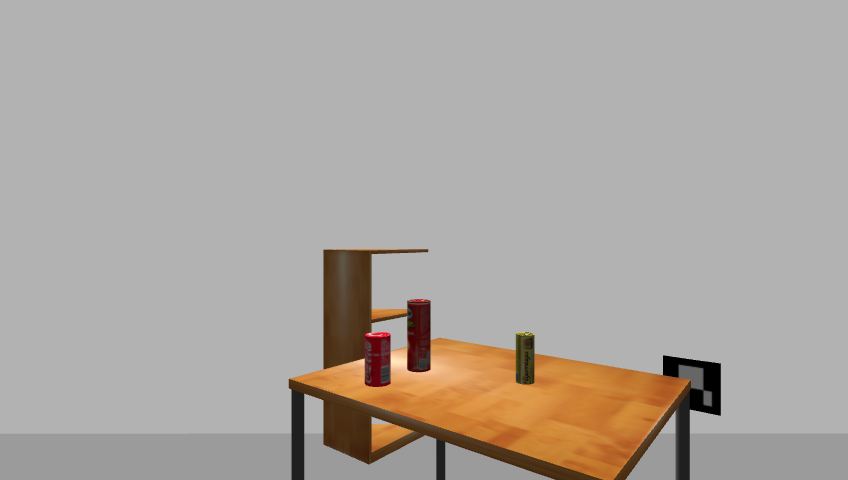aruco marker: (658, 353, 727, 418)
biscuits pack: (514, 332, 536, 386)
bookshelf: (318, 244, 434, 469)
coke can: (363, 332, 392, 388)
dinner table: (283, 337, 700, 479)
pringles can: (404, 299, 433, 374)
